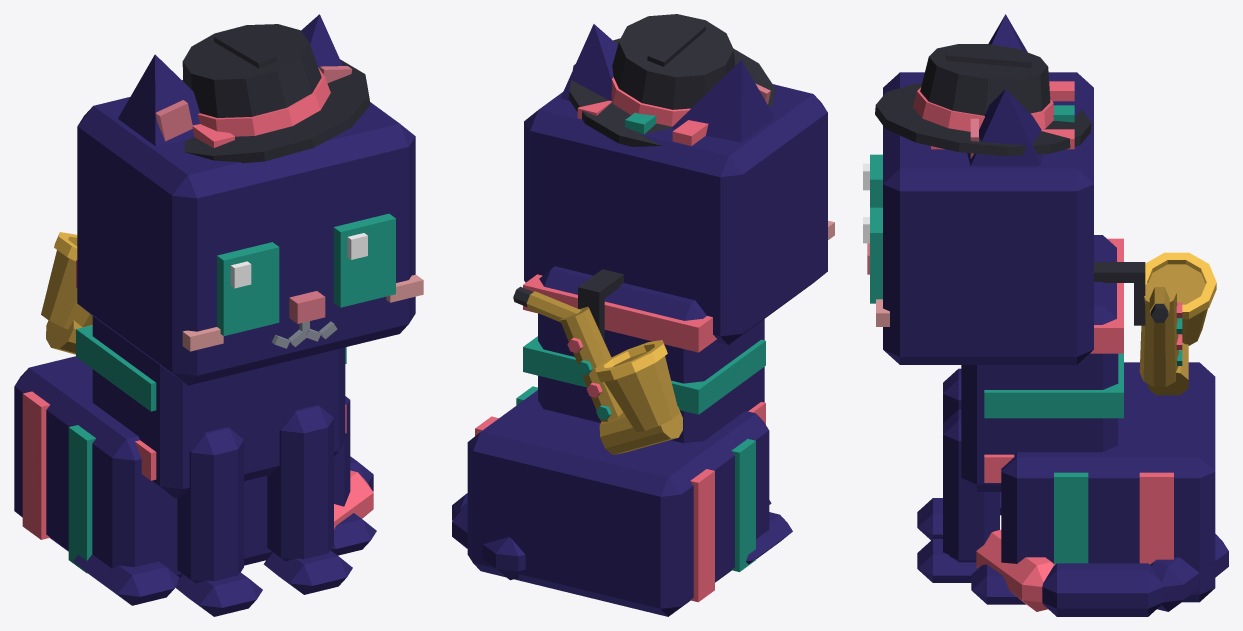
Rendered from CatCafe_Cat_Neon_Sit.glb.
The picture shows the model from 3 angles, left to right: view 1: azimuth 30°, elevation 25°; view 2: azimuth 150°, elevation 25°; view 3: azimuth 270°, elevation 25°; orthographic projection. The views are drawn at different scales.
Visible parts, largest first — view 1: CatCafe_Cat_Neon_Sit_Head, CatCafe_Cat_Neon_Sit_Body, CatCafe_Cat_Neon_Sit_Prop, CatCafe_Cat_Neon_Sit_LegF1, CatCafe_Cat_Neon_Sit_LegF2, CatCafe_Cat_Neon_Sit_Eye1, CatCafe_Cat_Neon_Sit_Eye2, CatCafe_Cat_Neon_Sit_EarR, CatCafe_Cat_Neon_Sit_Prop2, CatCafe_Cat_Neon_Sit_Tail, CatCafe_Cat_Neon_Sit_EarL; view 2: CatCafe_Cat_Neon_Sit_Body, CatCafe_Cat_Neon_Sit_Head, CatCafe_Cat_Neon_Sit_Prop, CatCafe_Cat_Neon_Sit_Prop2, CatCafe_Cat_Neon_Sit_EarR, CatCafe_Cat_Neon_Sit_EarL, CatCafe_Cat_Neon_Sit_Tail; view 3: CatCafe_Cat_Neon_Sit_Body, CatCafe_Cat_Neon_Sit_Head, CatCafe_Cat_Neon_Sit_Prop, CatCafe_Cat_Neon_Sit_Tail, CatCafe_Cat_Neon_Sit_Prop2, CatCafe_Cat_Neon_Sit_LegF1, CatCafe_Cat_Neon_Sit_EarL, CatCafe_Cat_Neon_Sit_LegF2, CatCafe_Cat_Neon_Sit_Eye1, CatCafe_Cat_Neon_Sit_Eye2, CatCafe_Cat_Neon_Sit_EarR.
Part boxes in pixels (x1,y1,x2,y2): CatCafe_Cat_Neon_Sit_Head: [77, 97, 423, 385]; CatCafe_Cat_Neon_Sit_Body: [14, 259, 376, 605]; CatCafe_Cat_Neon_Sit_Prop: [182, 24, 370, 163]; CatCafe_Cat_Neon_Sit_LegF1: [263, 405, 352, 594]; CatCafe_Cat_Neon_Sit_LegF2: [175, 427, 262, 616]; CatCafe_Cat_Neon_Sit_Eye1: [333, 213, 395, 307]; CatCafe_Cat_Neon_Sit_Eye2: [217, 242, 279, 335]; CatCafe_Cat_Neon_Sit_EarR: [118, 54, 199, 146]; CatCafe_Cat_Neon_Sit_Prop2: [41, 232, 92, 354]; CatCafe_Cat_Neon_Sit_Tail: [334, 456, 373, 528]; CatCafe_Cat_Neon_Sit_EarL: [301, 14, 352, 83]; CatCafe_Cat_Neon_Sit_Body: [467, 266, 792, 616]; CatCafe_Cat_Neon_Sit_Head: [524, 84, 834, 345]; CatCafe_Cat_Neon_Sit_Prop: [568, 14, 775, 146]; CatCafe_Cat_Neon_Sit_Prop2: [513, 269, 682, 454]; CatCafe_Cat_Neon_Sit_EarR: [671, 60, 774, 142]; CatCafe_Cat_Neon_Sit_EarL: [560, 24, 617, 100]; CatCafe_Cat_Neon_Sit_Tail: [452, 493, 525, 580]; CatCafe_Cat_Neon_Sit_Body: [961, 235, 1215, 604]; CatCafe_Cat_Neon_Sit_Head: [867, 72, 1093, 364]; CatCafe_Cat_Neon_Sit_Prop: [875, 44, 1091, 156]; CatCafe_Cat_Neon_Sit_Tail: [976, 529, 1228, 616]; CatCafe_Cat_Neon_Sit_Prop2: [1094, 252, 1216, 395]; CatCafe_Cat_Neon_Sit_LegF1: [917, 409, 999, 582]; CatCafe_Cat_Neon_Sit_EarL: [967, 89, 1043, 166]; CatCafe_Cat_Neon_Sit_LegF2: [917, 368, 961, 540]; CatCafe_Cat_Neon_Sit_Eye1: [863, 207, 882, 303]; CatCafe_Cat_Neon_Sit_Eye2: [863, 154, 882, 207]; CatCafe_Cat_Neon_Sit_EarR: [988, 14, 1027, 52].
Size of the model in its own units: 1.05 by 1.85 by 1.22.
1 material, 1 textured.
